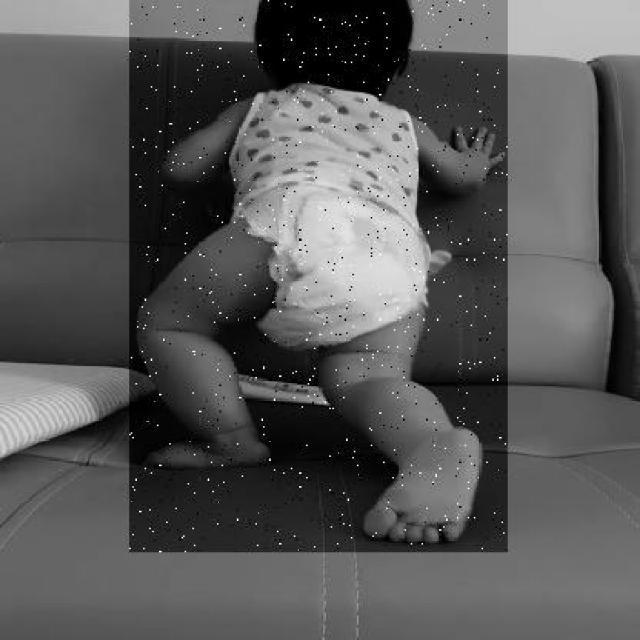child: (130, 0, 508, 552)
